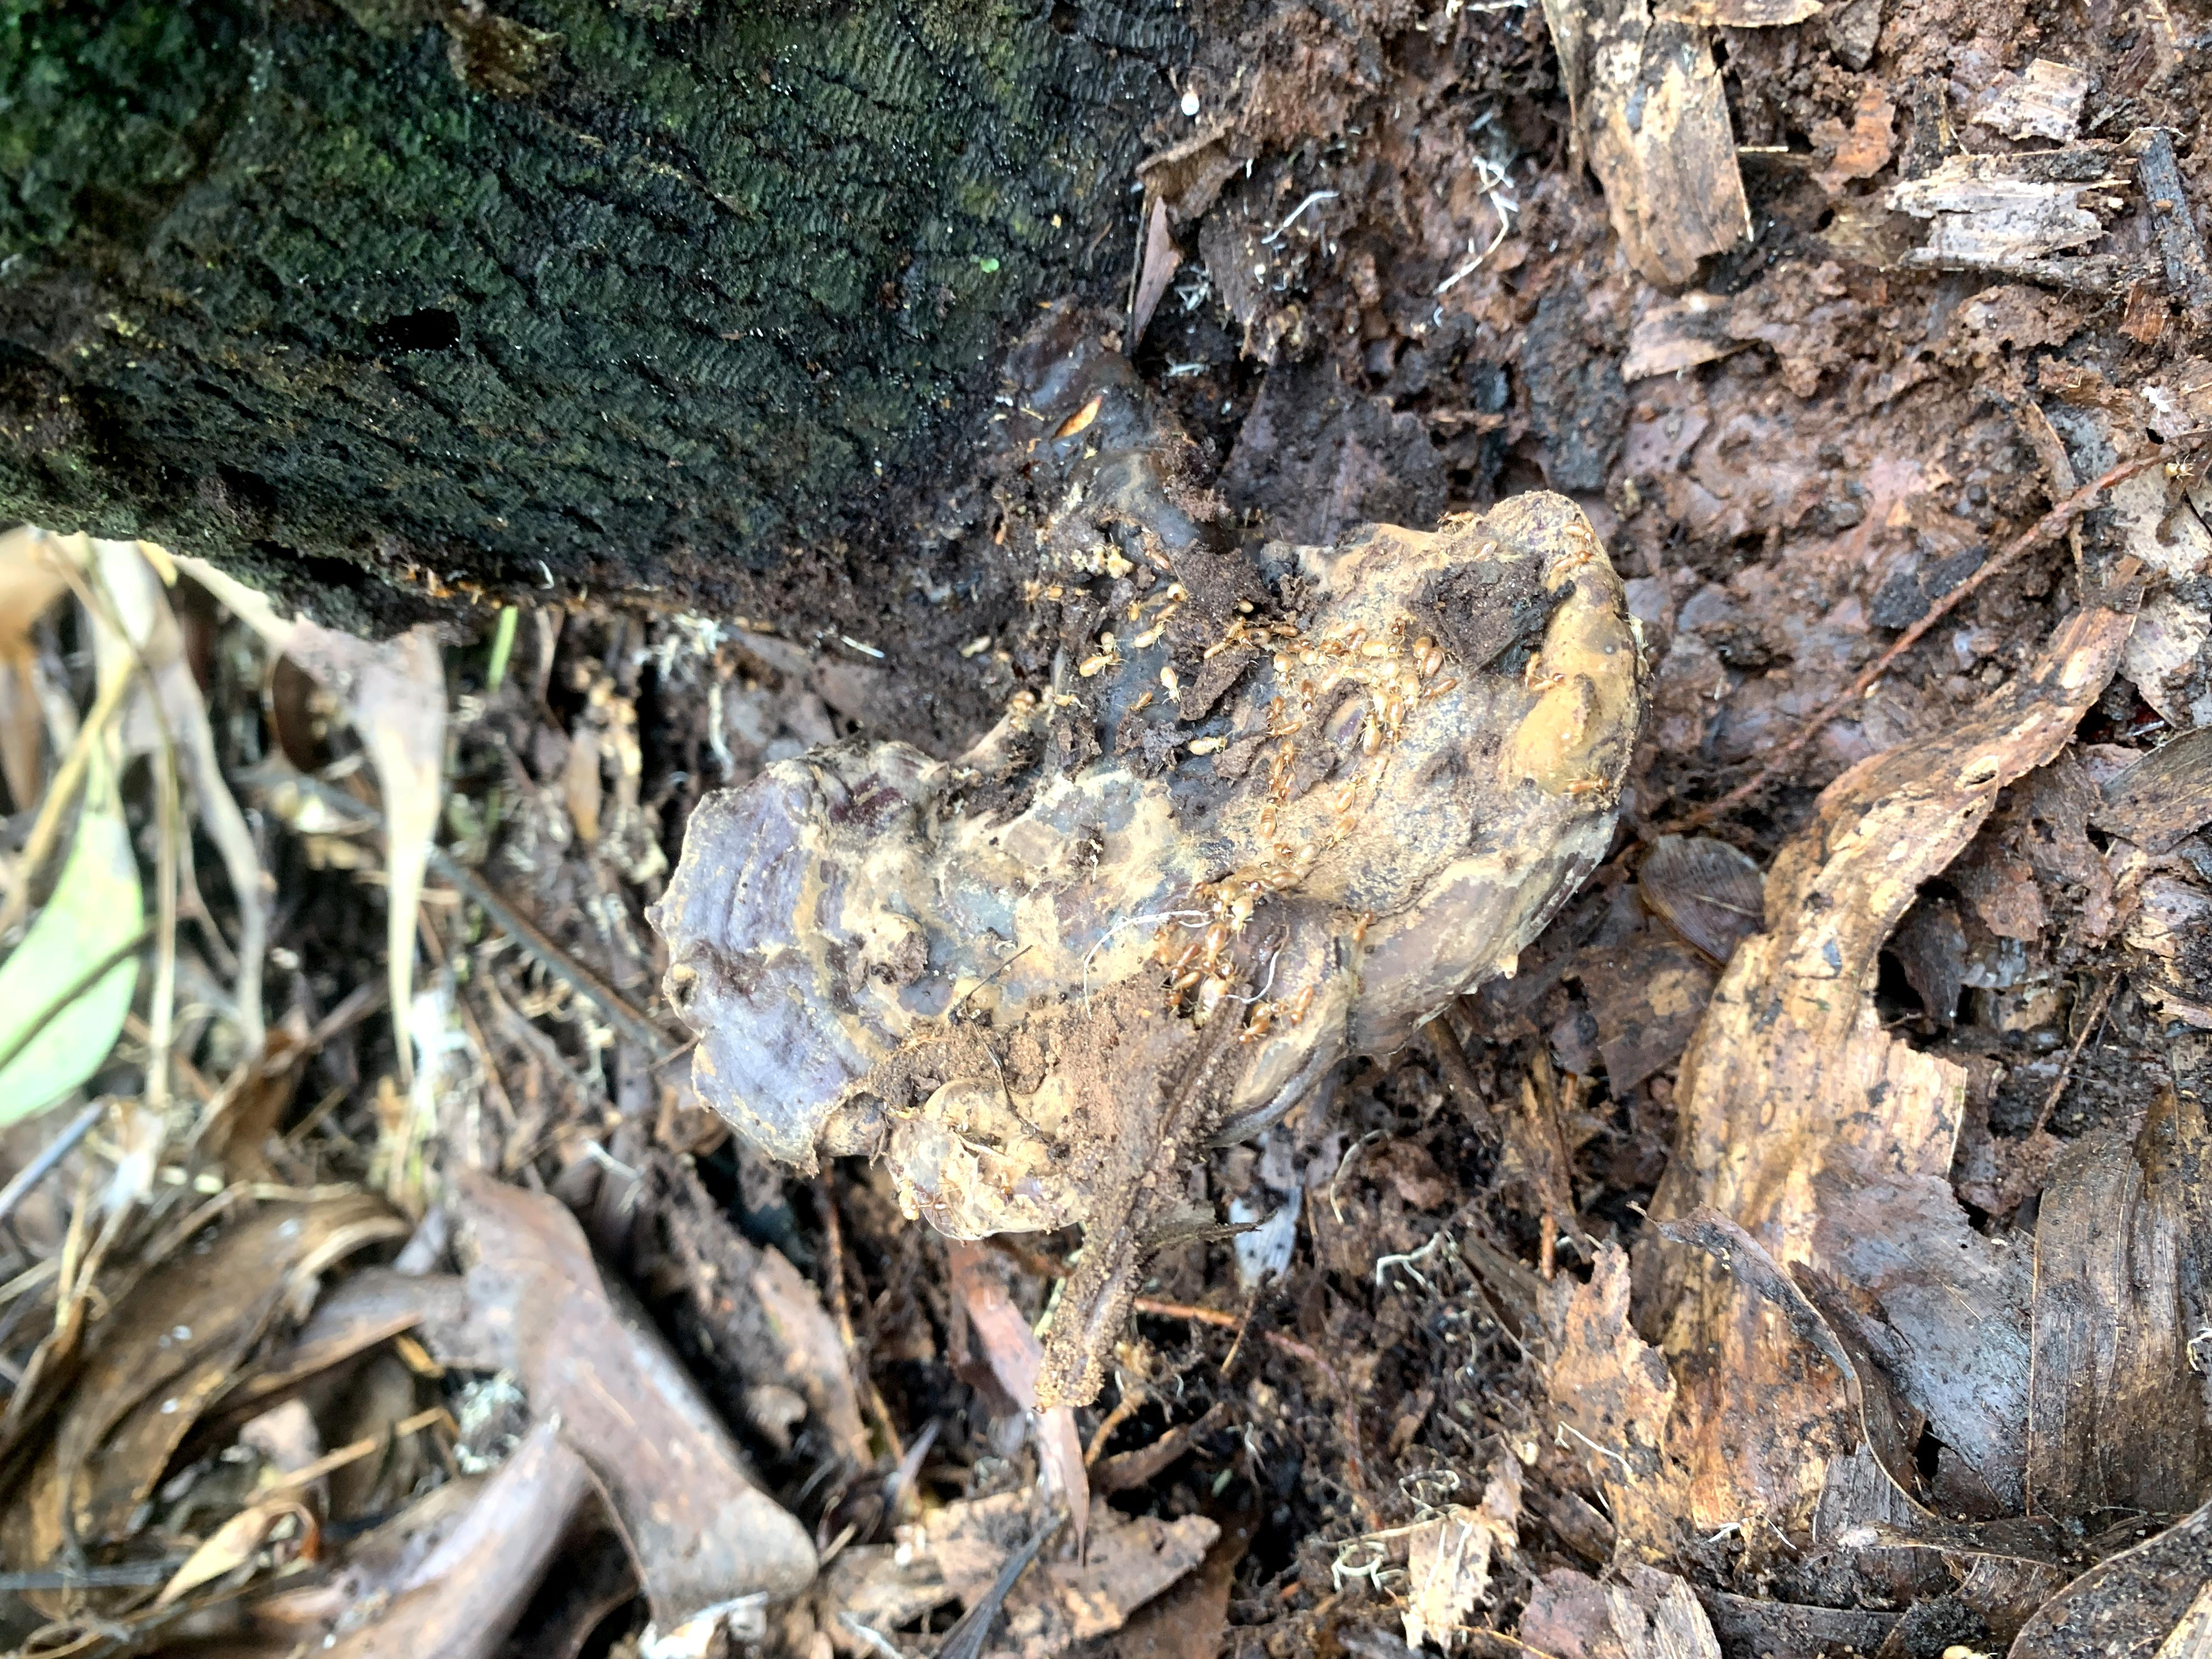Ganoderma - Fruit Body: (637, 497, 1646, 1244)
